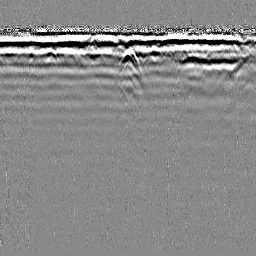cavity: (116, 47, 142, 74)
